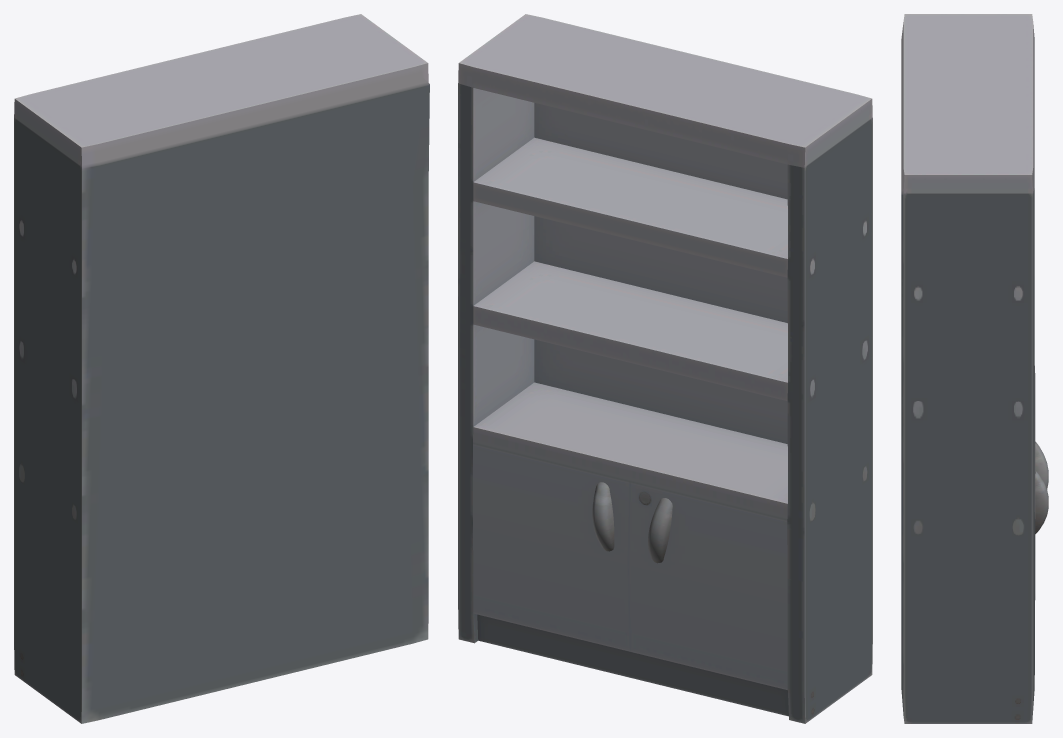
Rendered from OfficeCabinet01__2.fbx.
3 views of the same model, side by side, from view 1: azimuth 30°, elevation 25°; view 2: azimuth 150°, elevation 25°; view 3: azimuth 270°, elevation 25° (orthographic). The views are drawn at different scales.
Visible parts, largest first — view 1: OfficeCabinet01B; view 2: OfficeCabinet01B; view 3: OfficeCabinet01B.
Boxes of the visible parts, <box> form: OfficeCabinet01B: <box>14,14,429,723</box>; OfficeCabinet01B: <box>458,14,872,723</box>; OfficeCabinet01B: <box>901,14,1048,723</box>.
Bounding box in the file's own units: 1.6 × 2.55 × 0.6207.
Materials: 1 (1 with a texture image).
